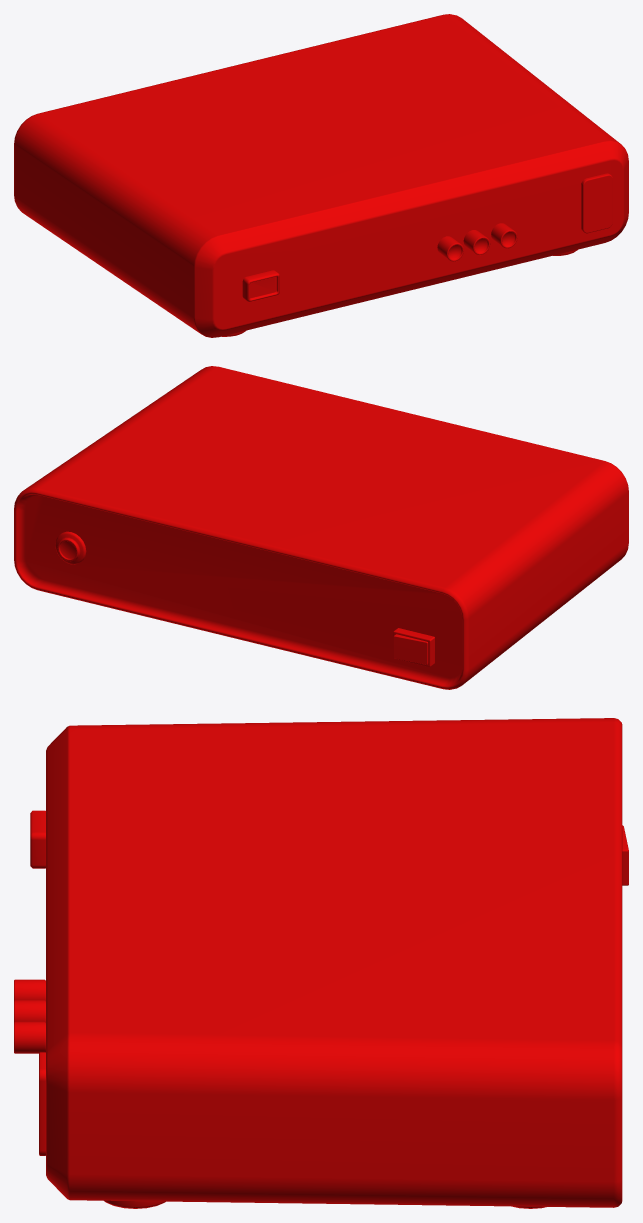
File: Equipment_28.fbx
The picture shows the model from 3 angles, top to bottom: view 1: azimuth 30°, elevation 25°; view 2: azimuth 150°, elevation 25°; view 3: azimuth 270°, elevation 25°; orthographic projection. The views are drawn at different scales.
Visible parts, largest first — view 1: L9:pCylinder181; view 2: L9:pCylinder181; view 3: L9:pCylinder181.
Part boxes in pixels (<box>): L9:pCylinder181: <box>14,14,628,337</box>; L9:pCylinder181: <box>14,366,628,689</box>; L9:pCylinder181: <box>14,718,628,1208</box>.
Size of the model in its own units: 52.31 by 12.48 by 38.15.
